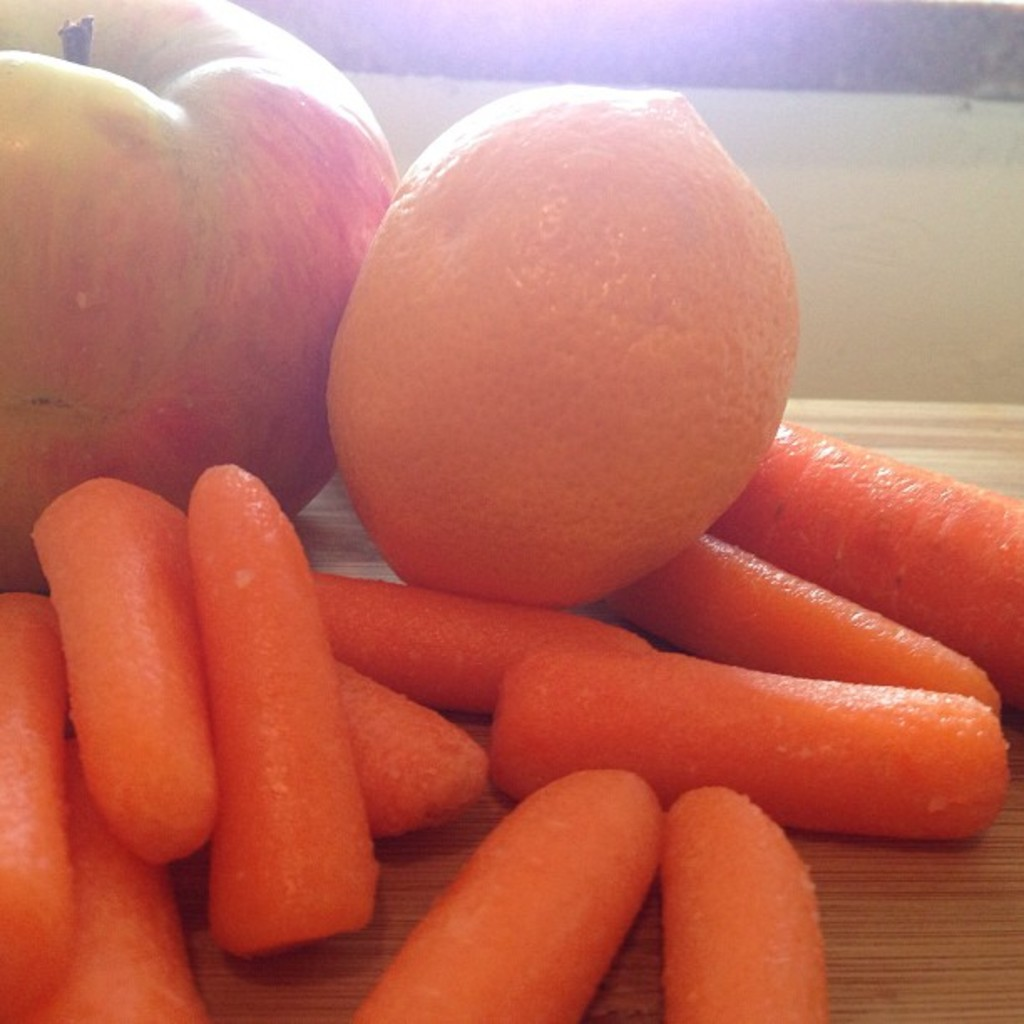Carrot: (0, 420, 1024, 1024)
